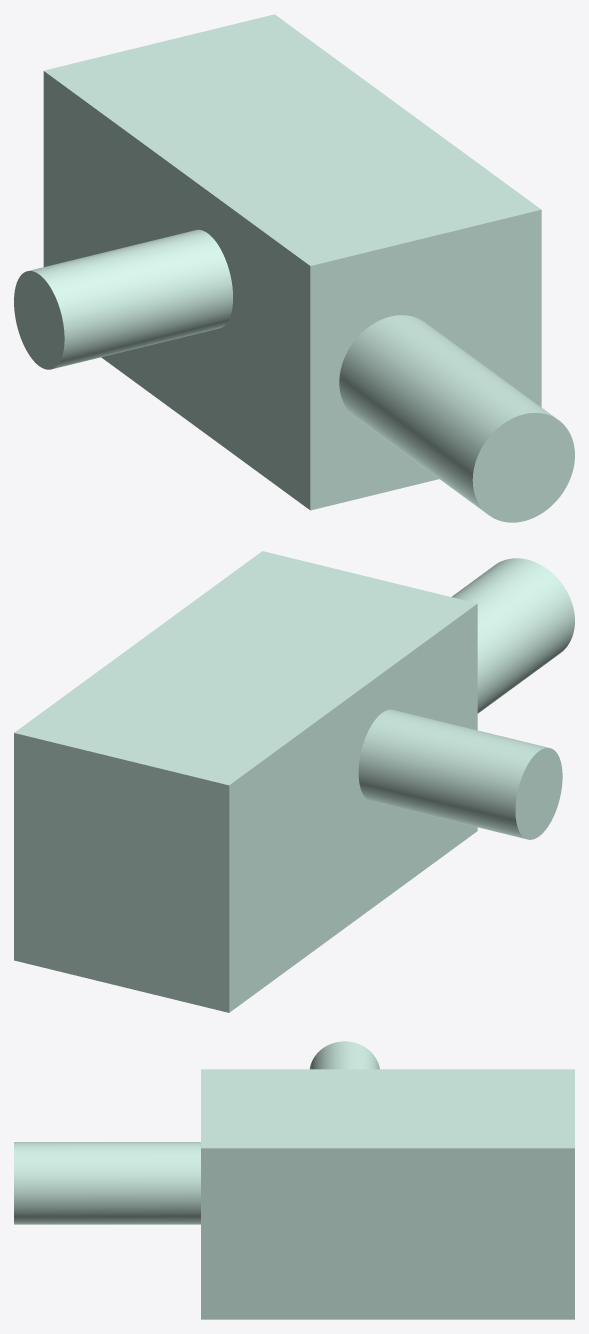
3 renders of one model, top to bottom at view 1: azimuth 30°, elevation 25°; view 2: azimuth 150°, elevation 25°; view 3: azimuth 270°, elevation 25°, orthographic. The views are drawn at different scales.
Visible parts, largest first — view 1: Renderer Node; view 2: Renderer Node; view 3: Renderer Node.
Boxes of the visible parts, x1=… form: Renderer Node: x1=14, y1=14, x2=574, y2=522; Renderer Node: x1=14, y1=551, x2=574, y2=1012; Renderer Node: x1=14, y1=1041, x2=574, y2=1319.
Bounding box in the file's own units: 0.6484 × 0.3789 × 1.13.
